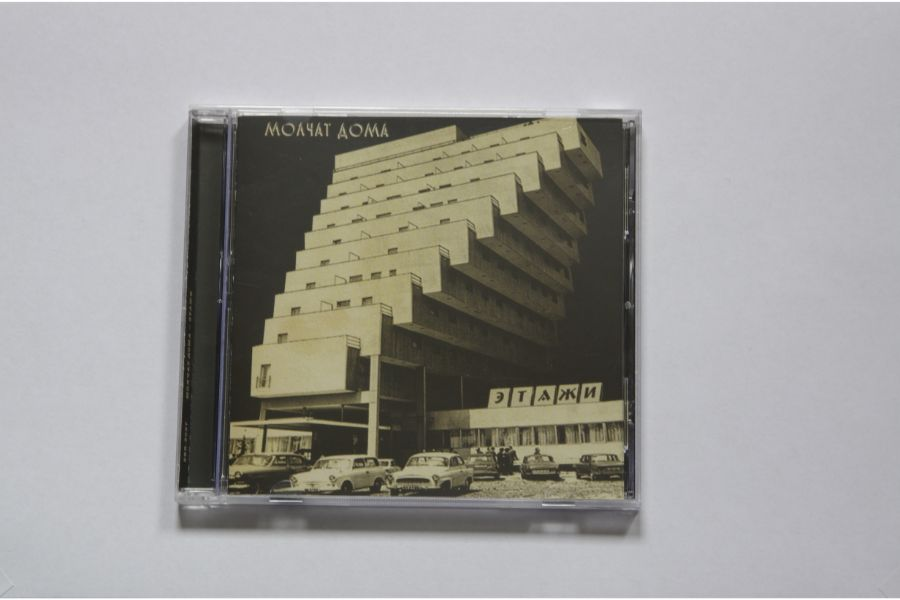album: (173, 106, 641, 517)
